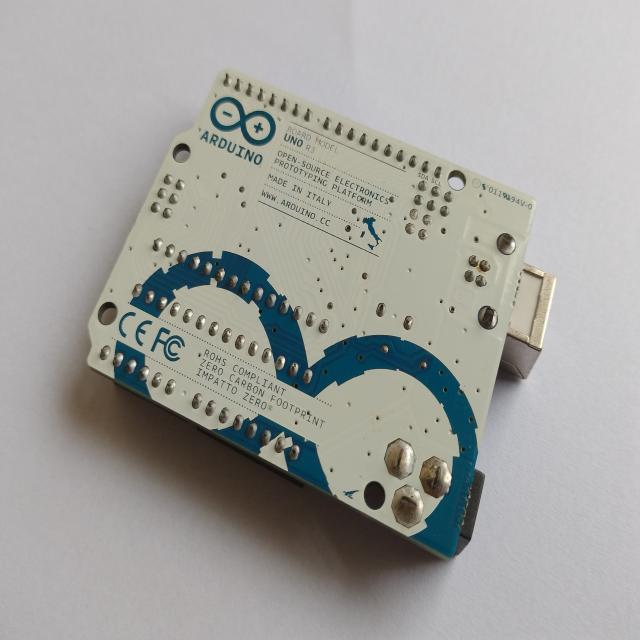arduino: (81, 59, 560, 576)
